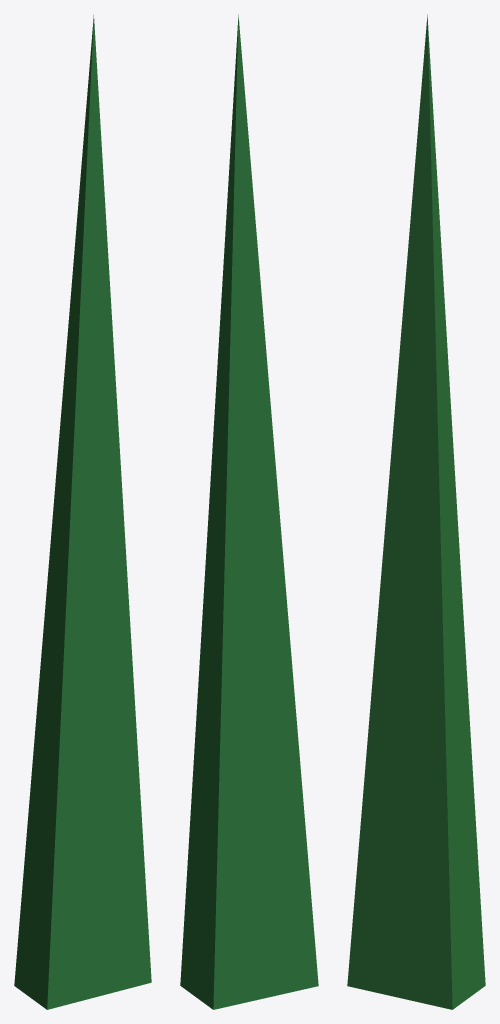
File: grass.obj
3 renders of one model, left to right at view 1: azimuth 30°, elevation 25°; view 2: azimuth 210°, elevation 25°; view 3: azimuth 330°, elevation 25°, orthographic.
Parts seen in each view (by area): view 1: grass; view 2: grass; view 3: grass.
Part boxes in pixels (bbox=[...]): grass: bbox=[14, 15, 151, 1009]; grass: bbox=[180, 14, 318, 1009]; grass: bbox=[347, 14, 485, 1009].
Size of the model in its own units: 0.0324 by 0.2869 by 0.0177.
1 material, 1 textured.
